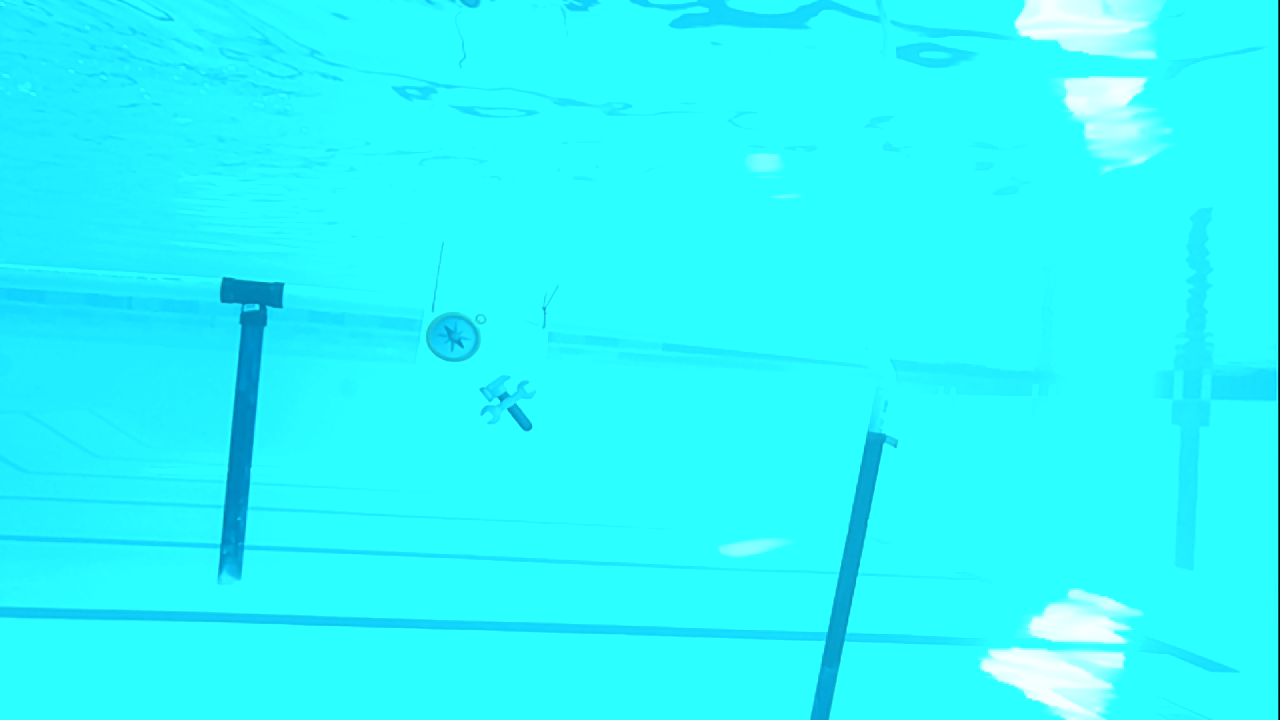compass_hammer: (417, 310, 552, 456)
gate_leg_center: (215, 277, 288, 590)
gate_leg_r: (801, 429, 884, 717)
